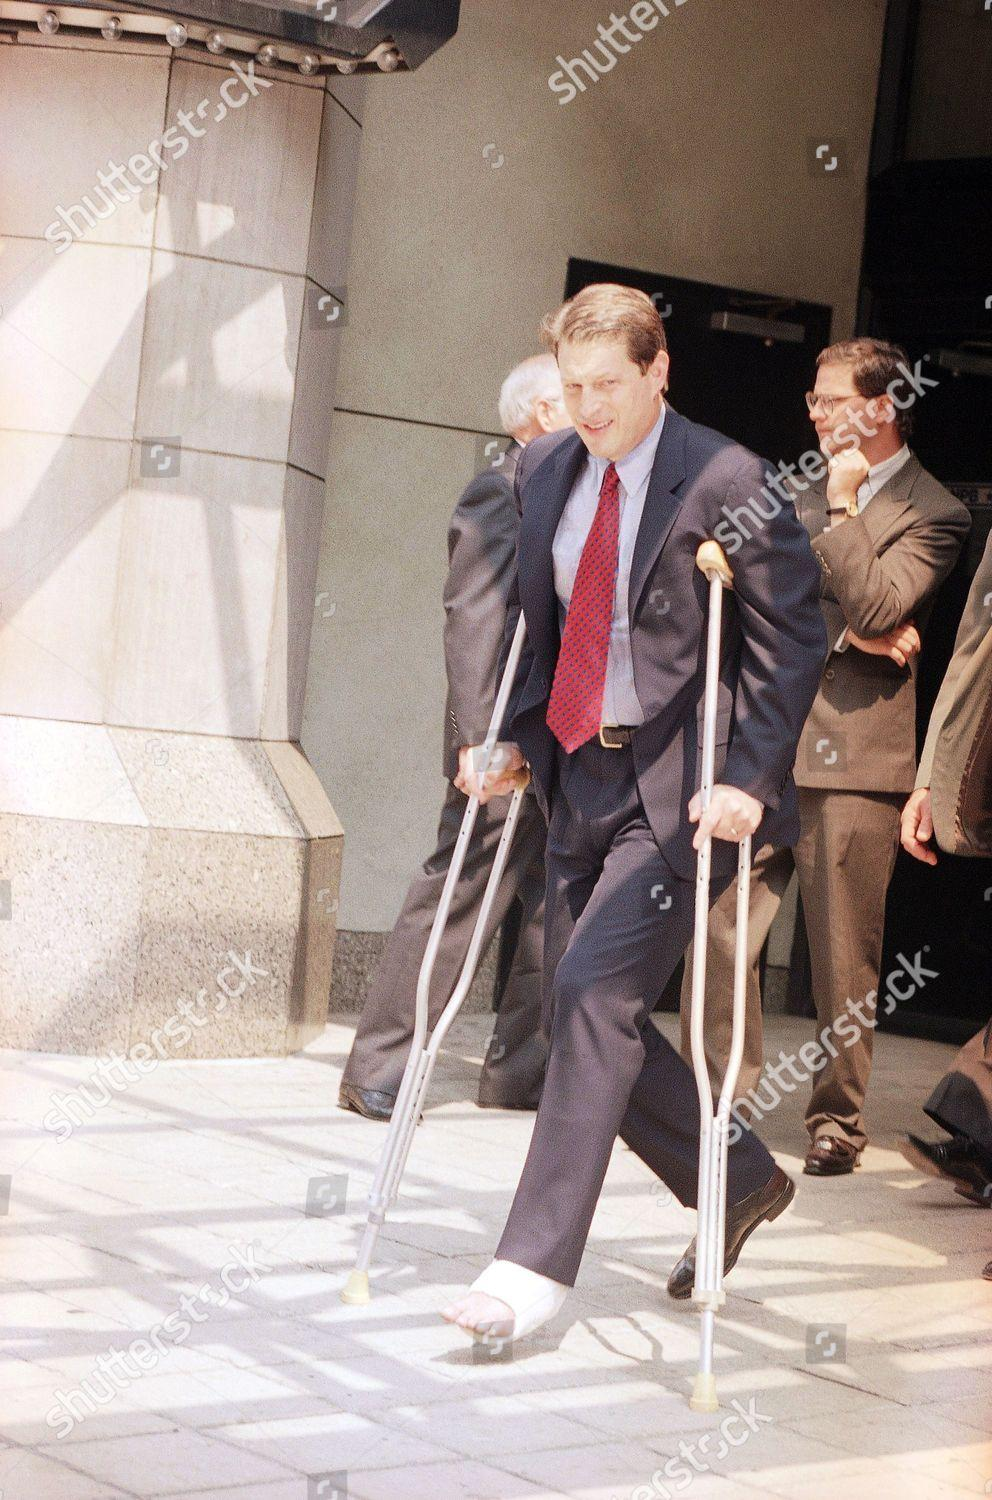crutches: (340, 282, 828, 1408)
